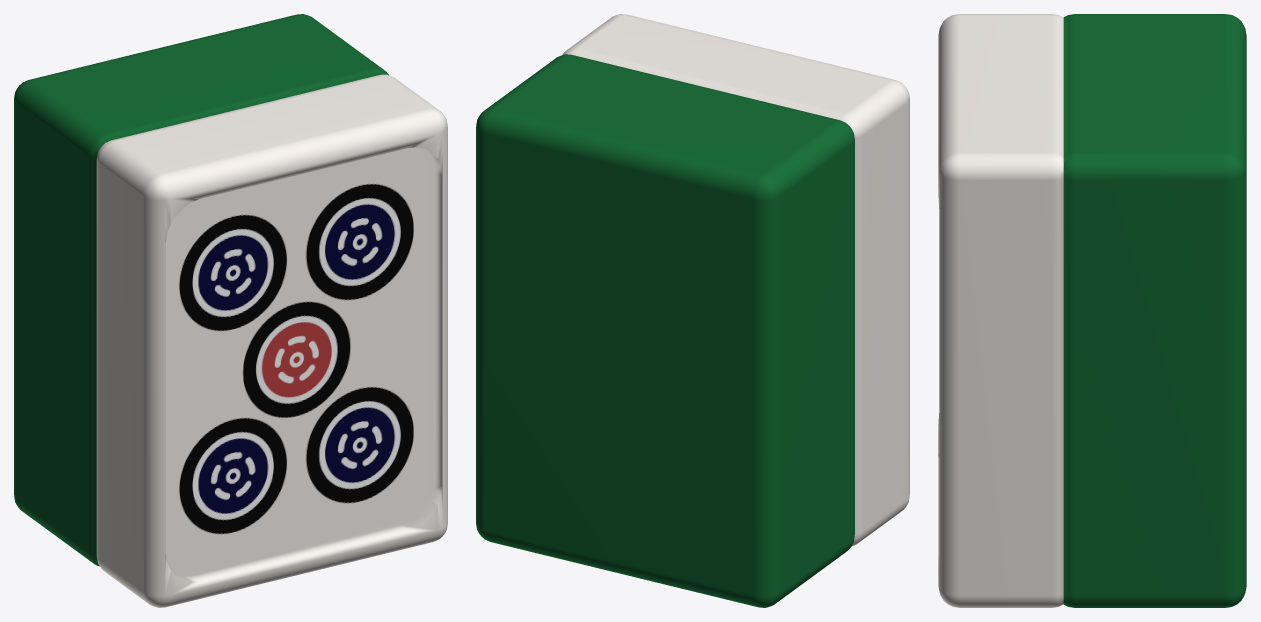
File: pin5-ebppydkx.glb
The picture shows the model from 3 angles, left to right: view 1: azimuth 30°, elevation 25°; view 2: azimuth 150°, elevation 25°; view 3: azimuth 270°, elevation 25°; orthographic projection. The views are drawn at different scales.
Parts seen in each view (by area): view 1: TileBody, FacePanel; view 2: TileBody; view 3: TileBody.
Boxes of the visible parts, <box> form: TileBody: <box>14,14,447,607</box>; FacePanel: <box>165,148,428,569</box>; TileBody: <box>476,14,909,607</box>; TileBody: <box>938,14,1246,607</box>.
Bounding box in the file's own units: 19 × 26 × 16.
3 materials, 1 textured.
